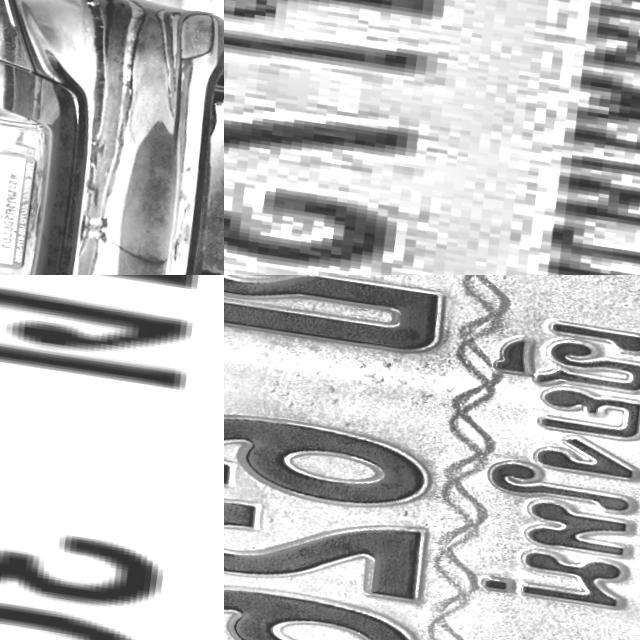license-plate: (224, 275, 640, 640), (224, 0, 640, 275), (0, 275, 224, 640), (0, 144, 38, 269)
